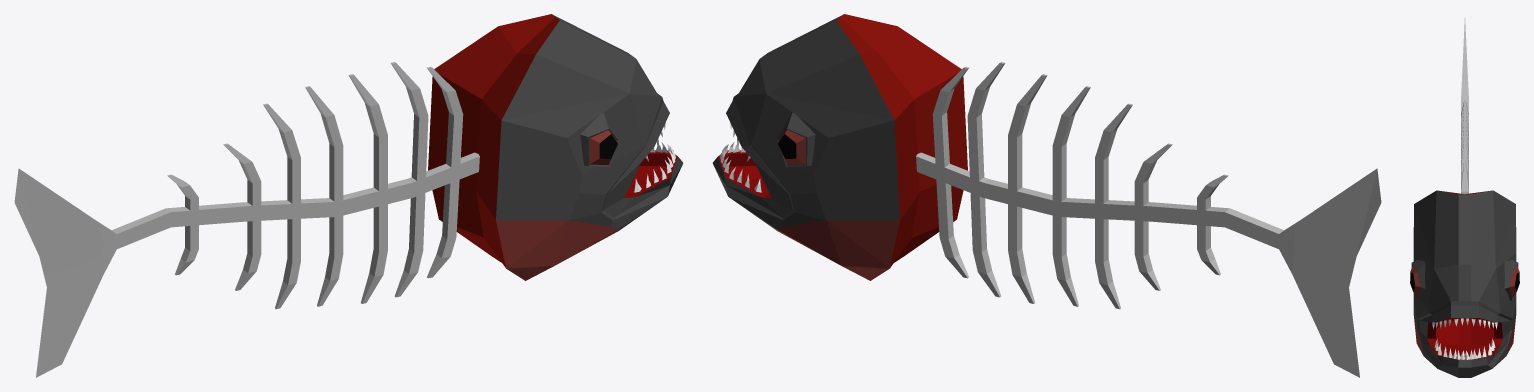
The model's file is Resources__items__trophies__GiantPiranhaSkeleton.glb.
The picture shows the model from 3 angles, left to right: view 1: azimuth 30°, elevation 25°; view 2: azimuth 150°, elevation 25°; view 3: azimuth 270°, elevation 25°; orthographic projection. The views are drawn at different scales.
Parts seen in each view (by area): view 1: GiantPiranhaSkeleton; view 2: GiantPiranhaSkeleton; view 3: GiantPiranhaSkeleton.
Boxes of the visible parts, x1,y1,x2,y2 form: GiantPiranhaSkeleton: [14, 14, 683, 377]; GiantPiranhaSkeleton: [712, 14, 1381, 377]; GiantPiranhaSkeleton: [1410, 18, 1519, 377].
Size of the model in its own units: 1.46 by 0.5185 by 0.28.
1 material, 1 textured.
